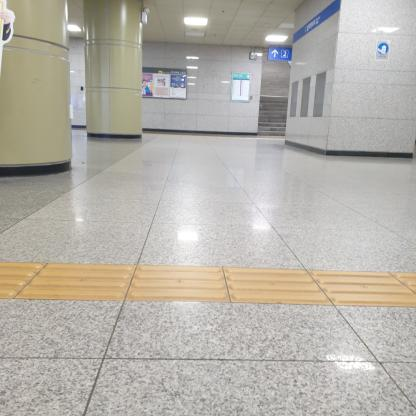go: (14, 263, 137, 300), (223, 266, 334, 305), (306, 269, 416, 307), (125, 264, 231, 302)
